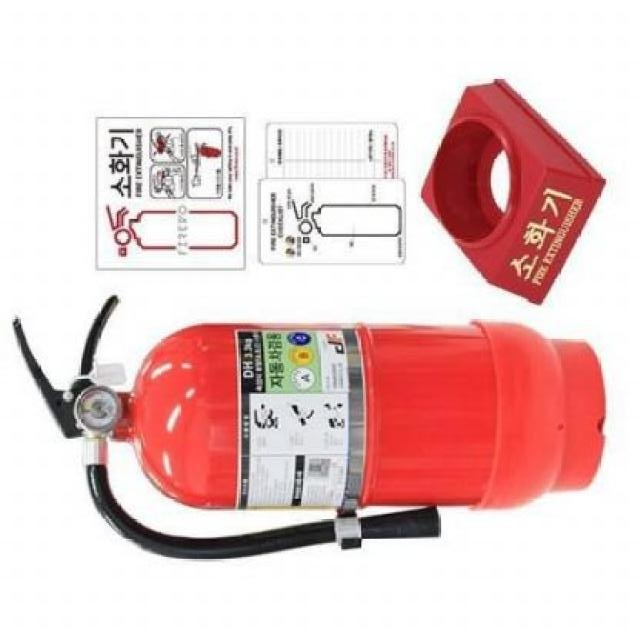fire extinguisher: (11, 295, 607, 561)
